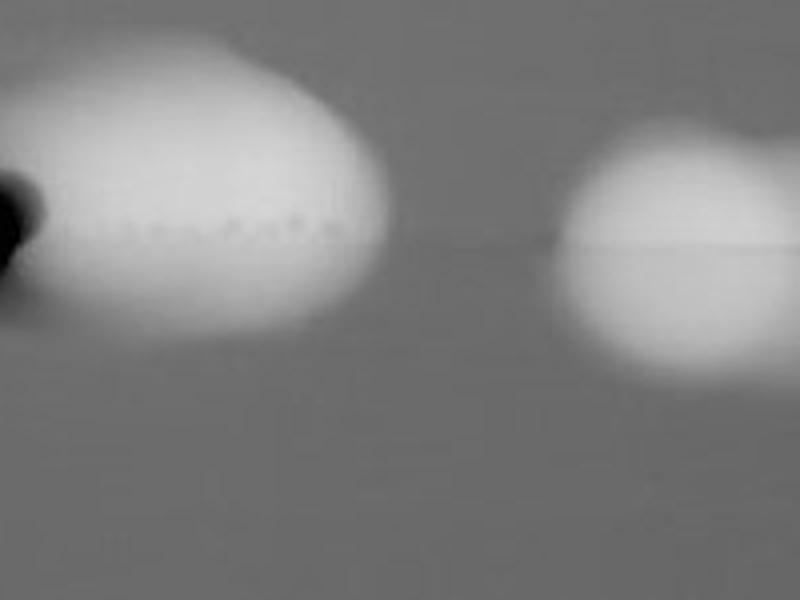defect: (1, 174, 33, 275)
